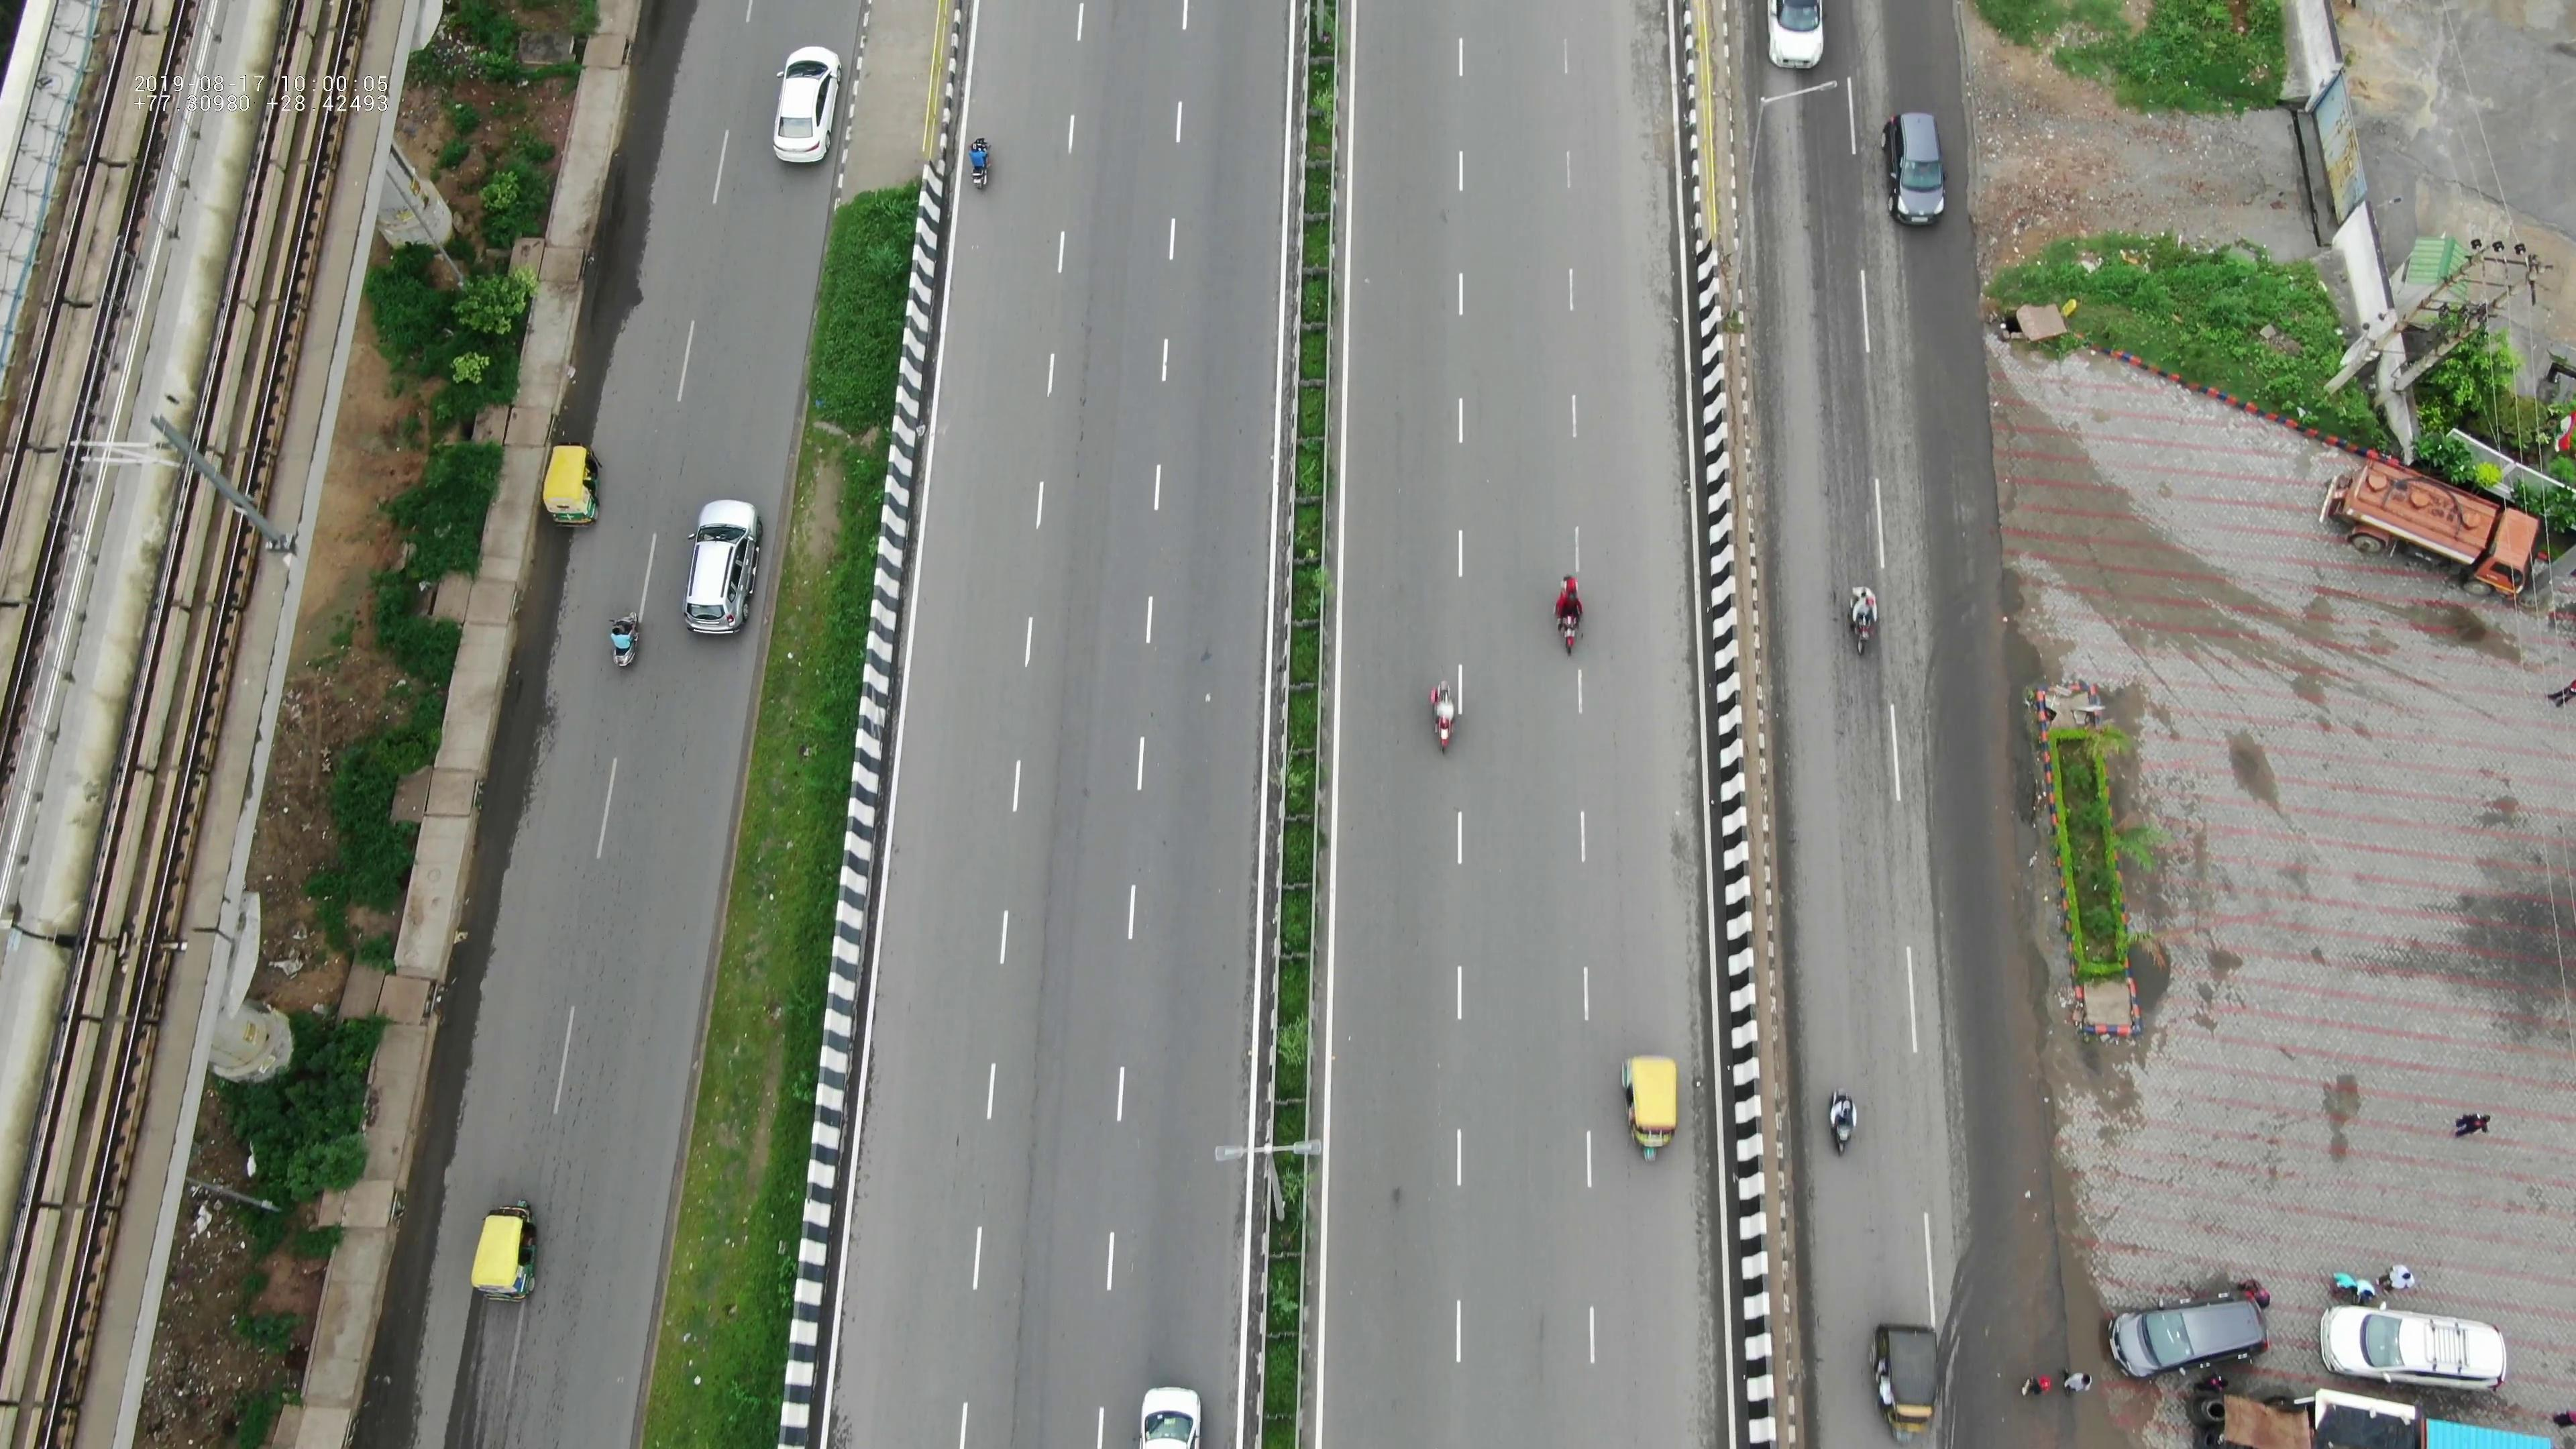Ravelling: (996, 1092, 1079, 1430)
Waterlogging: (589, 159, 639, 334)
